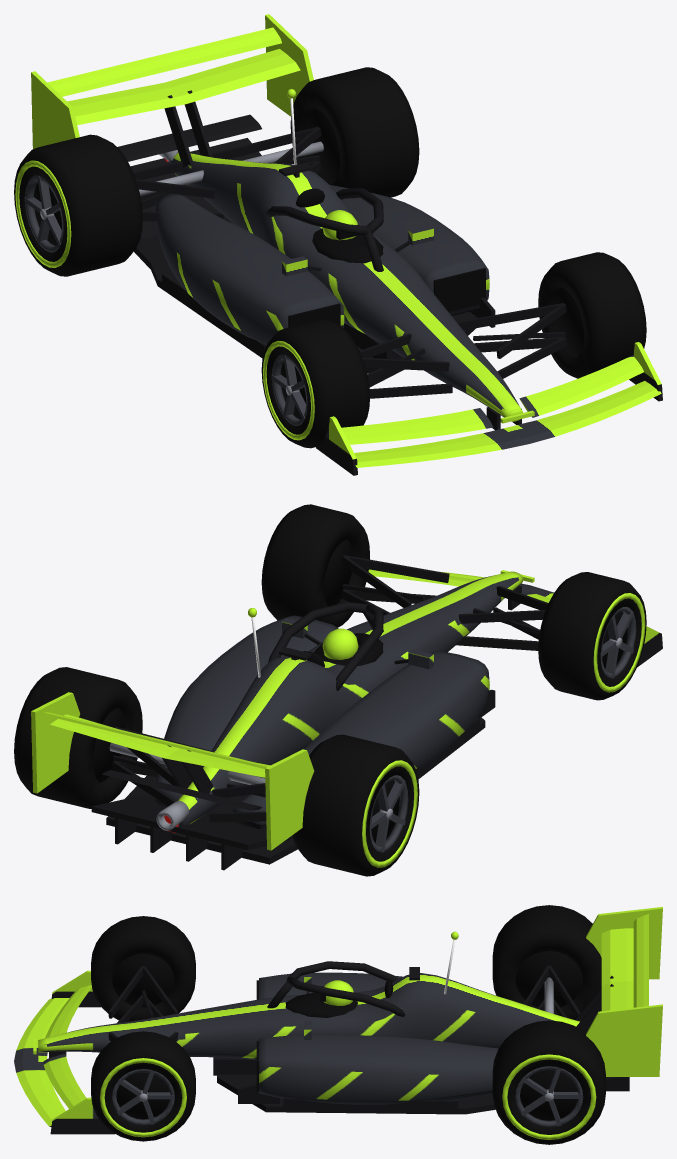
The model's file is city_a.fbx.
The picture shows the model from 3 angles, top to bottom: view 1: azimuth 30°, elevation 25°; view 2: azimuth 150°, elevation 25°; view 3: azimuth 270°, elevation 25°; orthographic projection. The views are drawn at different scales.
Visible parts, largest first — view 1: Body, Trim, Wheel_RL, Wheel_RR, Wheel_FL, Wheel_FR; view 2: Body, Trim, Wheel_RL, Wheel_FL, Wheel_RR, Wheel_FR; view 3: Body, Trim, Wheel_RR, Wheel_FR, Wheel_RL, Wheel_FL.
Part boxes in pixels (bbox=[...]): Body: bbox=[31, 14, 662, 475]; Trim: bbox=[117, 90, 566, 430]; Wheel_RL: bbox=[14, 134, 142, 276]; Wheel_RR: bbox=[290, 67, 419, 197]; Wheel_FL: bbox=[261, 319, 369, 448]; Wheel_FR: bbox=[538, 252, 646, 378]; Body: bbox=[31, 569, 662, 850]; Trim: bbox=[91, 555, 548, 870]; Wheel_RL: bbox=[292, 734, 419, 876]; Wheel_FL: bbox=[538, 572, 646, 700]; Wheel_RR: bbox=[14, 667, 142, 808]; Wheel_FR: bbox=[261, 504, 369, 627]; Body: bbox=[14, 907, 662, 1134]; Trim: bbox=[49, 961, 629, 1114]; Wheel_RR: bbox=[492, 1020, 605, 1144]; Wheel_FR: bbox=[91, 1031, 195, 1141]; Wheel_RL: bbox=[492, 905, 601, 1019]; Wheel_FL: bbox=[91, 916, 195, 1021].
Size of the model in its own units: 9.81 by 4.81 by 18.55.
Materials: 4 (1 with a texture image).
